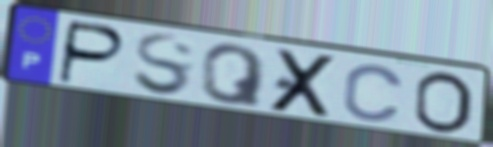C: (340, 63, 407, 125)
O: (411, 69, 475, 136)
P: (55, 19, 129, 88)
Q: (199, 43, 269, 110)
S: (131, 32, 197, 100)
X: (266, 47, 342, 120)
